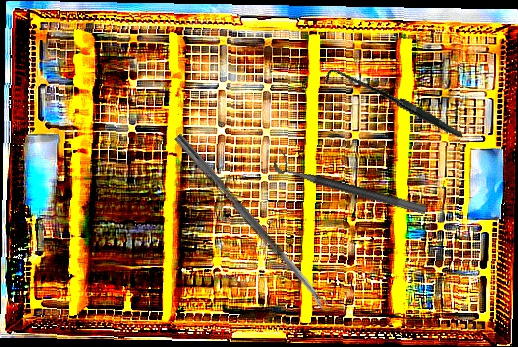Fixation Ring: (271, 148, 432, 216)
Hook Surgical: (322, 32, 463, 179)
Surgical Spoon: (173, 133, 329, 311)
